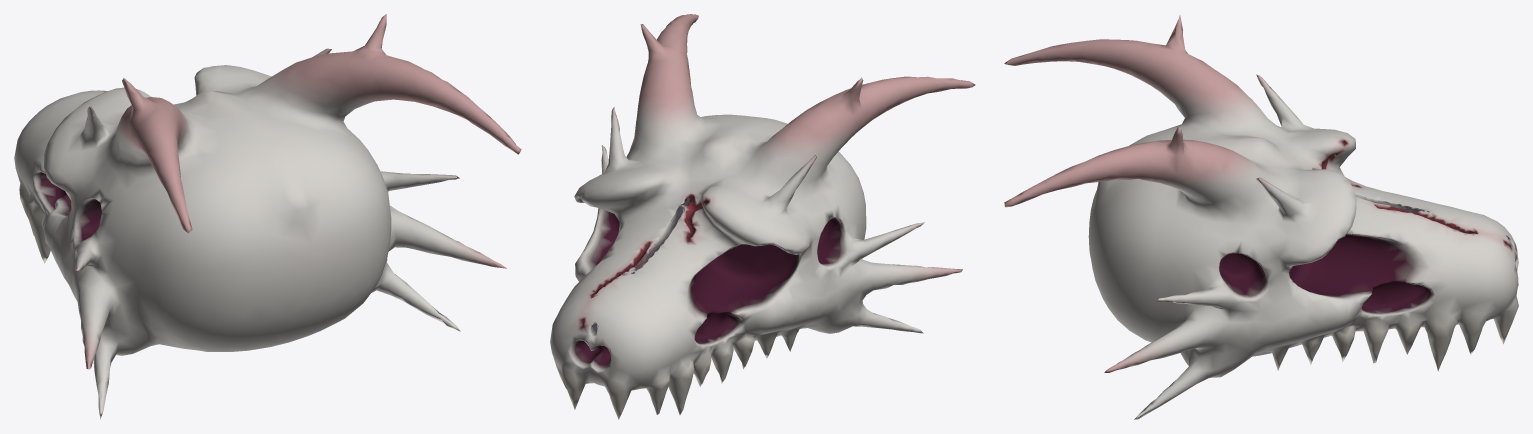
Rendered from BlasterSkullFell.glb.
3 renders of one model, left to right at view 1: azimuth 30°, elevation 25°; view 2: azimuth 150°, elevation 25°; view 3: azimuth 270°, elevation 25°, orthographic. The views are drawn at different scales.
Parts seen in each view (by area): view 1: BlasterSkullFell; view 2: BlasterSkullFell; view 3: BlasterSkullFell.
Boxes of the visible parts, x1=… form: BlasterSkullFell: x1=14, y1=14, x2=521, y2=419; BlasterSkullFell: x1=550, y1=14, x2=975, y2=419; BlasterSkullFell: x1=1004, y1=15, x2=1518, y2=419.
Bounding box in the file's own units: 2.85 × 2.03 × 3.46.
